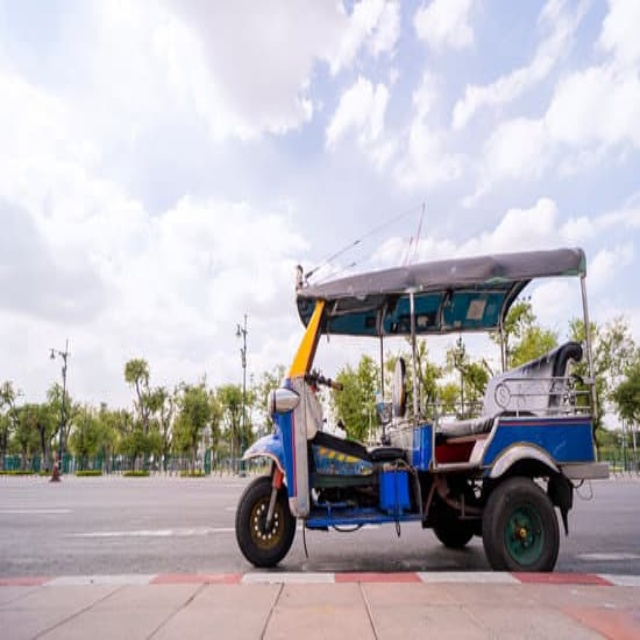Motorcycle: (234, 246, 607, 574)
